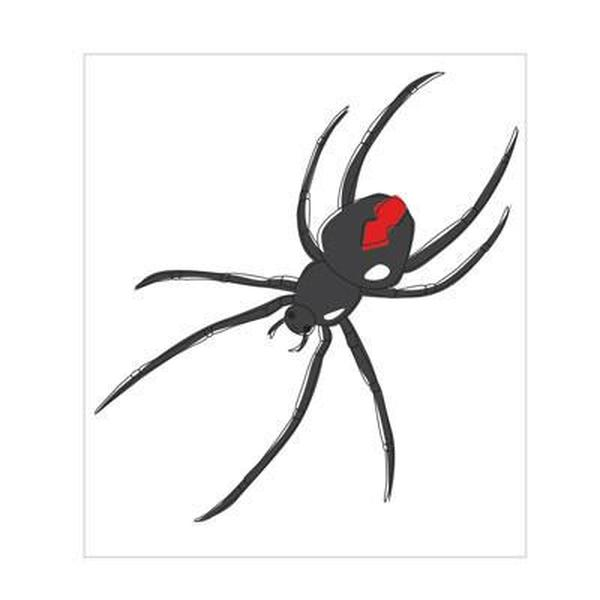Redback Spider: (102, 79, 509, 515)
